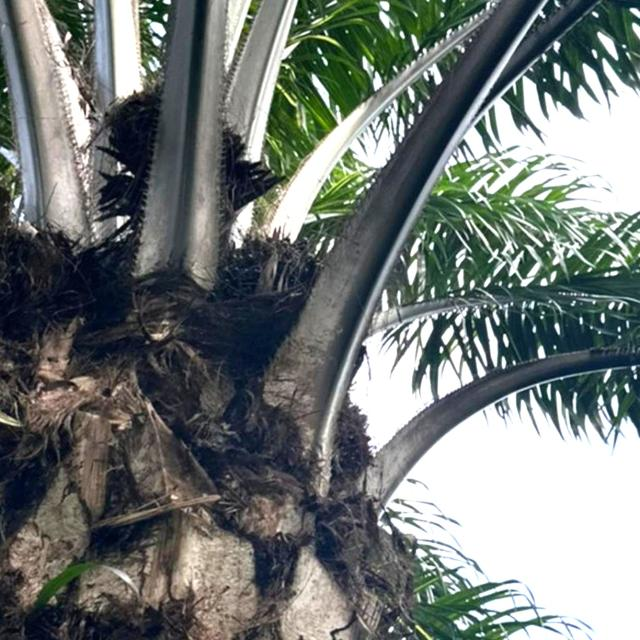unripe: (205, 216, 331, 352)
